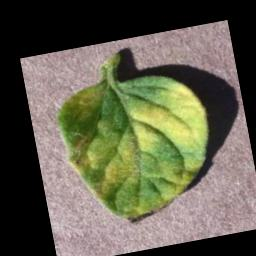Leaf_Mold: (50, 62, 225, 234)
